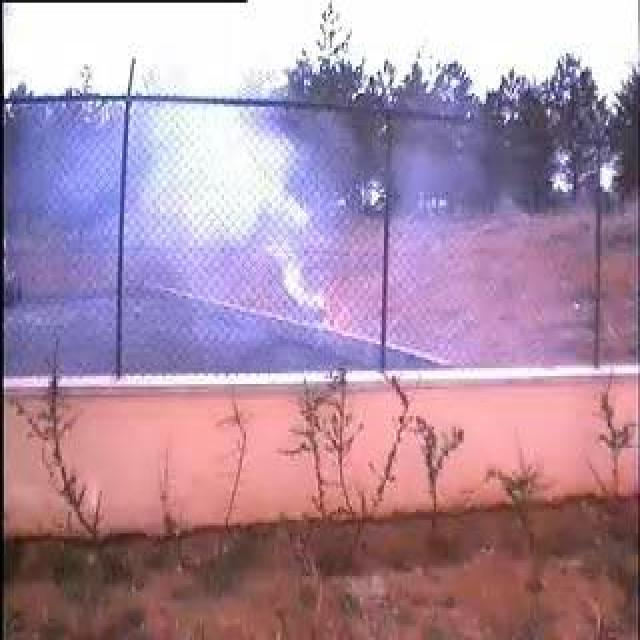Smoke: (58, 99, 356, 360)
